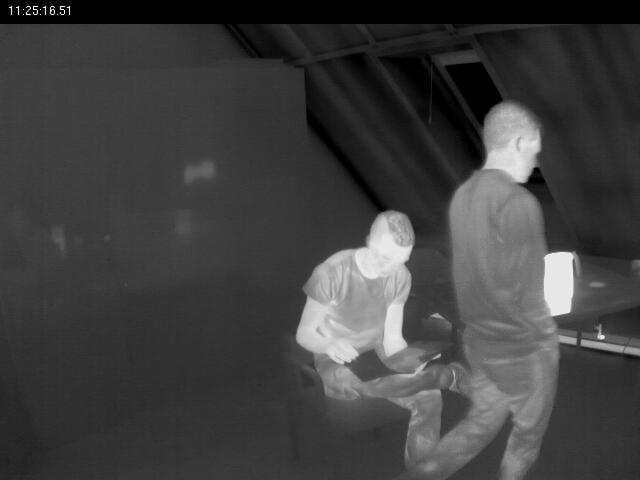person: (434, 66, 584, 480), (290, 204, 475, 480)
